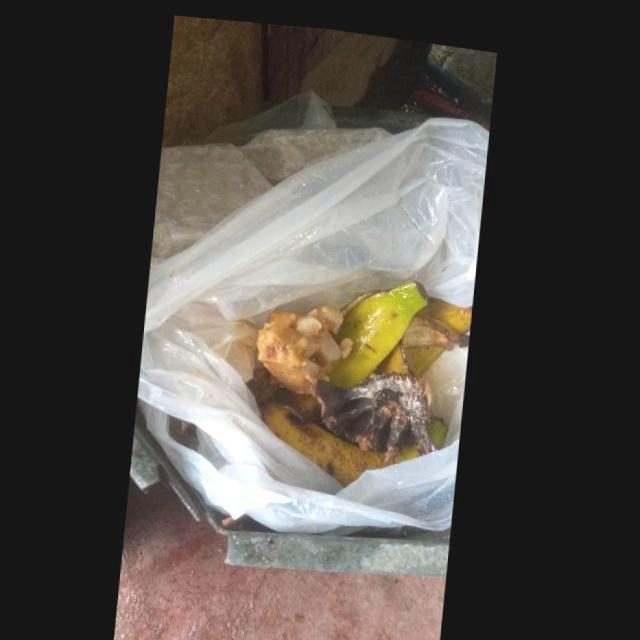left_over_food: (260, 300, 347, 390)
